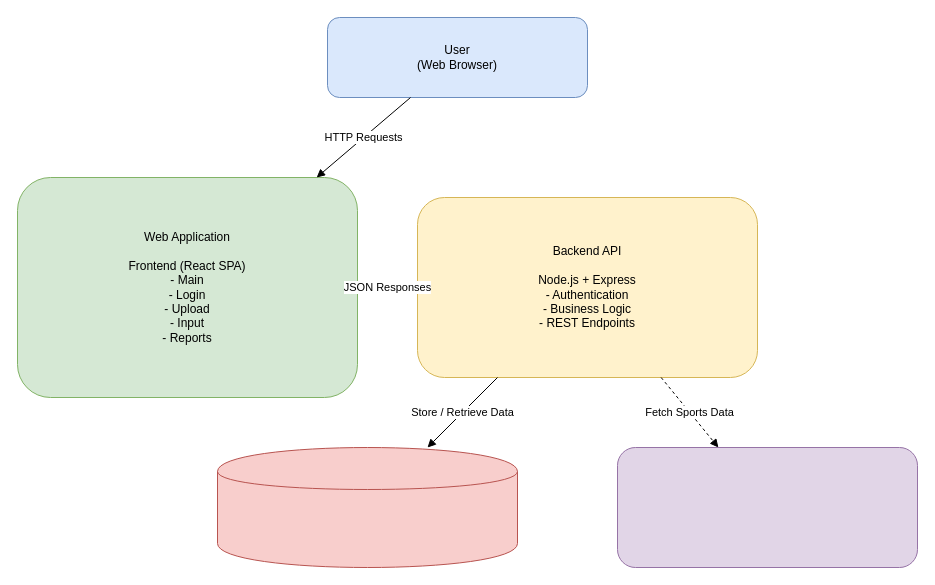
Image size: 935x585. Some labels were removed from this diagram. Each missing label, with the centre of its shape:
"External Sports Data API" belongs at [767,507].
"PostgreSQL Database" belongs at [367,507].
